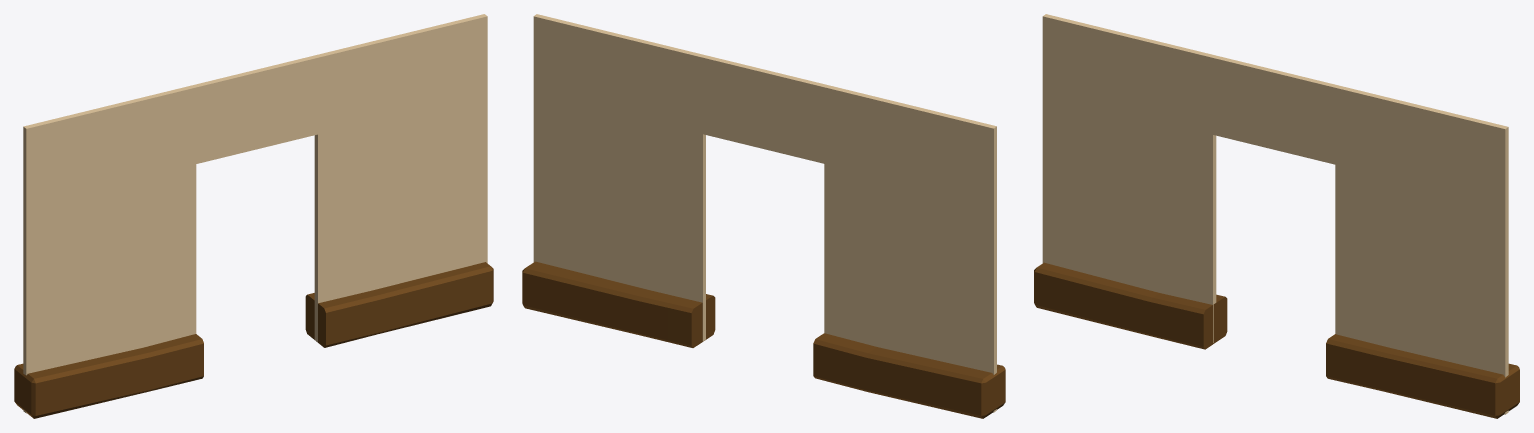
Rendered from Wall_04_Door.fbx.
3 views of the same model, side by side, from view 1: azimuth 30°, elevation 25°; view 2: azimuth 150°, elevation 25°; view 3: azimuth 330°, elevation 25° (orthographic).
Visible parts, largest first — view 1: Wall_04_Door; view 2: Wall_04_Door; view 3: Wall_04_Door.
Boxes of the visible parts, left/top/right/bottom form: Wall_04_Door: left=14, top=14, right=493, bottom=418; Wall_04_Door: left=522, top=14, right=1005, bottom=418; Wall_04_Door: left=1034, top=14, right=1519, bottom=418.
Bounding box in the file's own units: 476 × 280 × 41.23.
